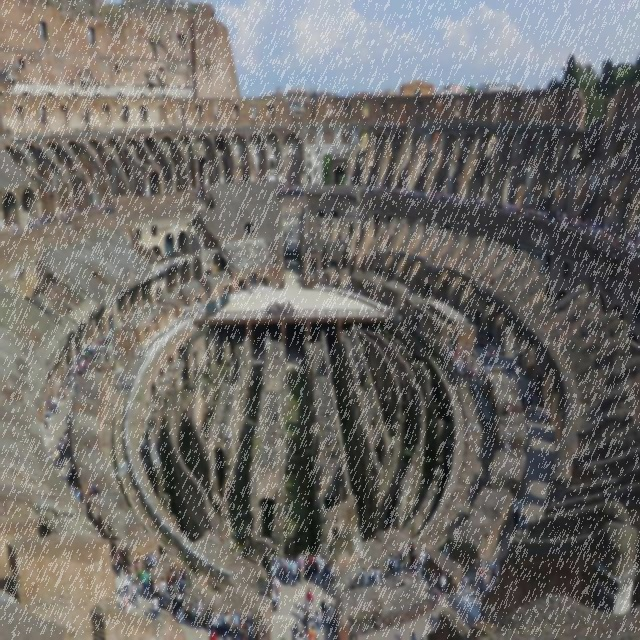pessoa: (357, 181, 467, 204), (280, 550, 334, 592), (588, 218, 640, 254), (46, 428, 77, 481), (444, 338, 478, 382), (59, 202, 115, 224), (496, 200, 548, 222), (11, 212, 58, 233), (552, 207, 588, 234), (520, 380, 540, 424), (112, 586, 140, 614), (168, 561, 190, 596), (134, 550, 158, 582), (288, 602, 317, 628), (67, 480, 101, 502), (64, 346, 90, 374), (140, 606, 180, 624), (264, 298, 296, 320), (58, 372, 83, 400), (269, 552, 280, 612), (88, 332, 108, 362), (40, 392, 59, 419), (276, 181, 304, 199), (110, 542, 122, 578), (468, 193, 492, 210), (140, 567, 152, 600), (328, 518, 340, 550), (128, 578, 140, 608), (466, 591, 488, 607), (194, 597, 203, 633), (302, 608, 312, 639), (222, 608, 232, 639), (426, 569, 436, 598), (120, 569, 130, 598), (176, 594, 185, 626), (216, 607, 225, 639), (320, 595, 328, 630), (150, 593, 160, 621), (518, 512, 528, 540), (244, 611, 254, 639), (488, 560, 498, 588), (458, 572, 468, 600), (506, 359, 520, 379), (231, 608, 240, 639), (512, 506, 521, 536), (211, 606, 219, 638), (410, 551, 420, 576), (326, 601, 334, 632), (312, 608, 320, 639), (438, 570, 446, 600), (306, 586, 314, 616), (158, 574, 168, 598), (478, 570, 487, 596), (161, 596, 170, 621), (408, 540, 416, 568), (122, 586, 130, 614), (188, 602, 196, 628), (238, 612, 246, 638), (478, 553, 486, 578), (419, 548, 427, 573), (394, 553, 402, 578), (170, 591, 178, 616), (386, 551, 393, 577), (290, 622, 300, 640), (80, 440, 98, 450), (306, 622, 316, 639), (391, 554, 398, 578), (396, 548, 402, 576), (373, 562, 380, 586), (368, 562, 375, 586), (540, 406, 548, 426), (208, 623, 218, 639), (192, 184, 202, 200), (304, 594, 311, 615), (351, 574, 358, 594), (394, 623, 402, 639), (480, 332, 488, 348), (152, 580, 158, 600), (546, 387, 552, 407), (261, 623, 268, 639), (488, 326, 494, 344), (488, 348, 493, 368), (304, 180, 324, 185), (112, 195, 126, 202), (148, 189, 160, 197), (414, 560, 420, 575), (296, 630, 306, 639), (484, 348, 489, 364), (410, 630, 418, 639), (140, 580, 144, 598), (206, 603, 213, 613), (360, 565, 366, 575), (534, 514, 540, 521), (160, 590, 165, 596)
